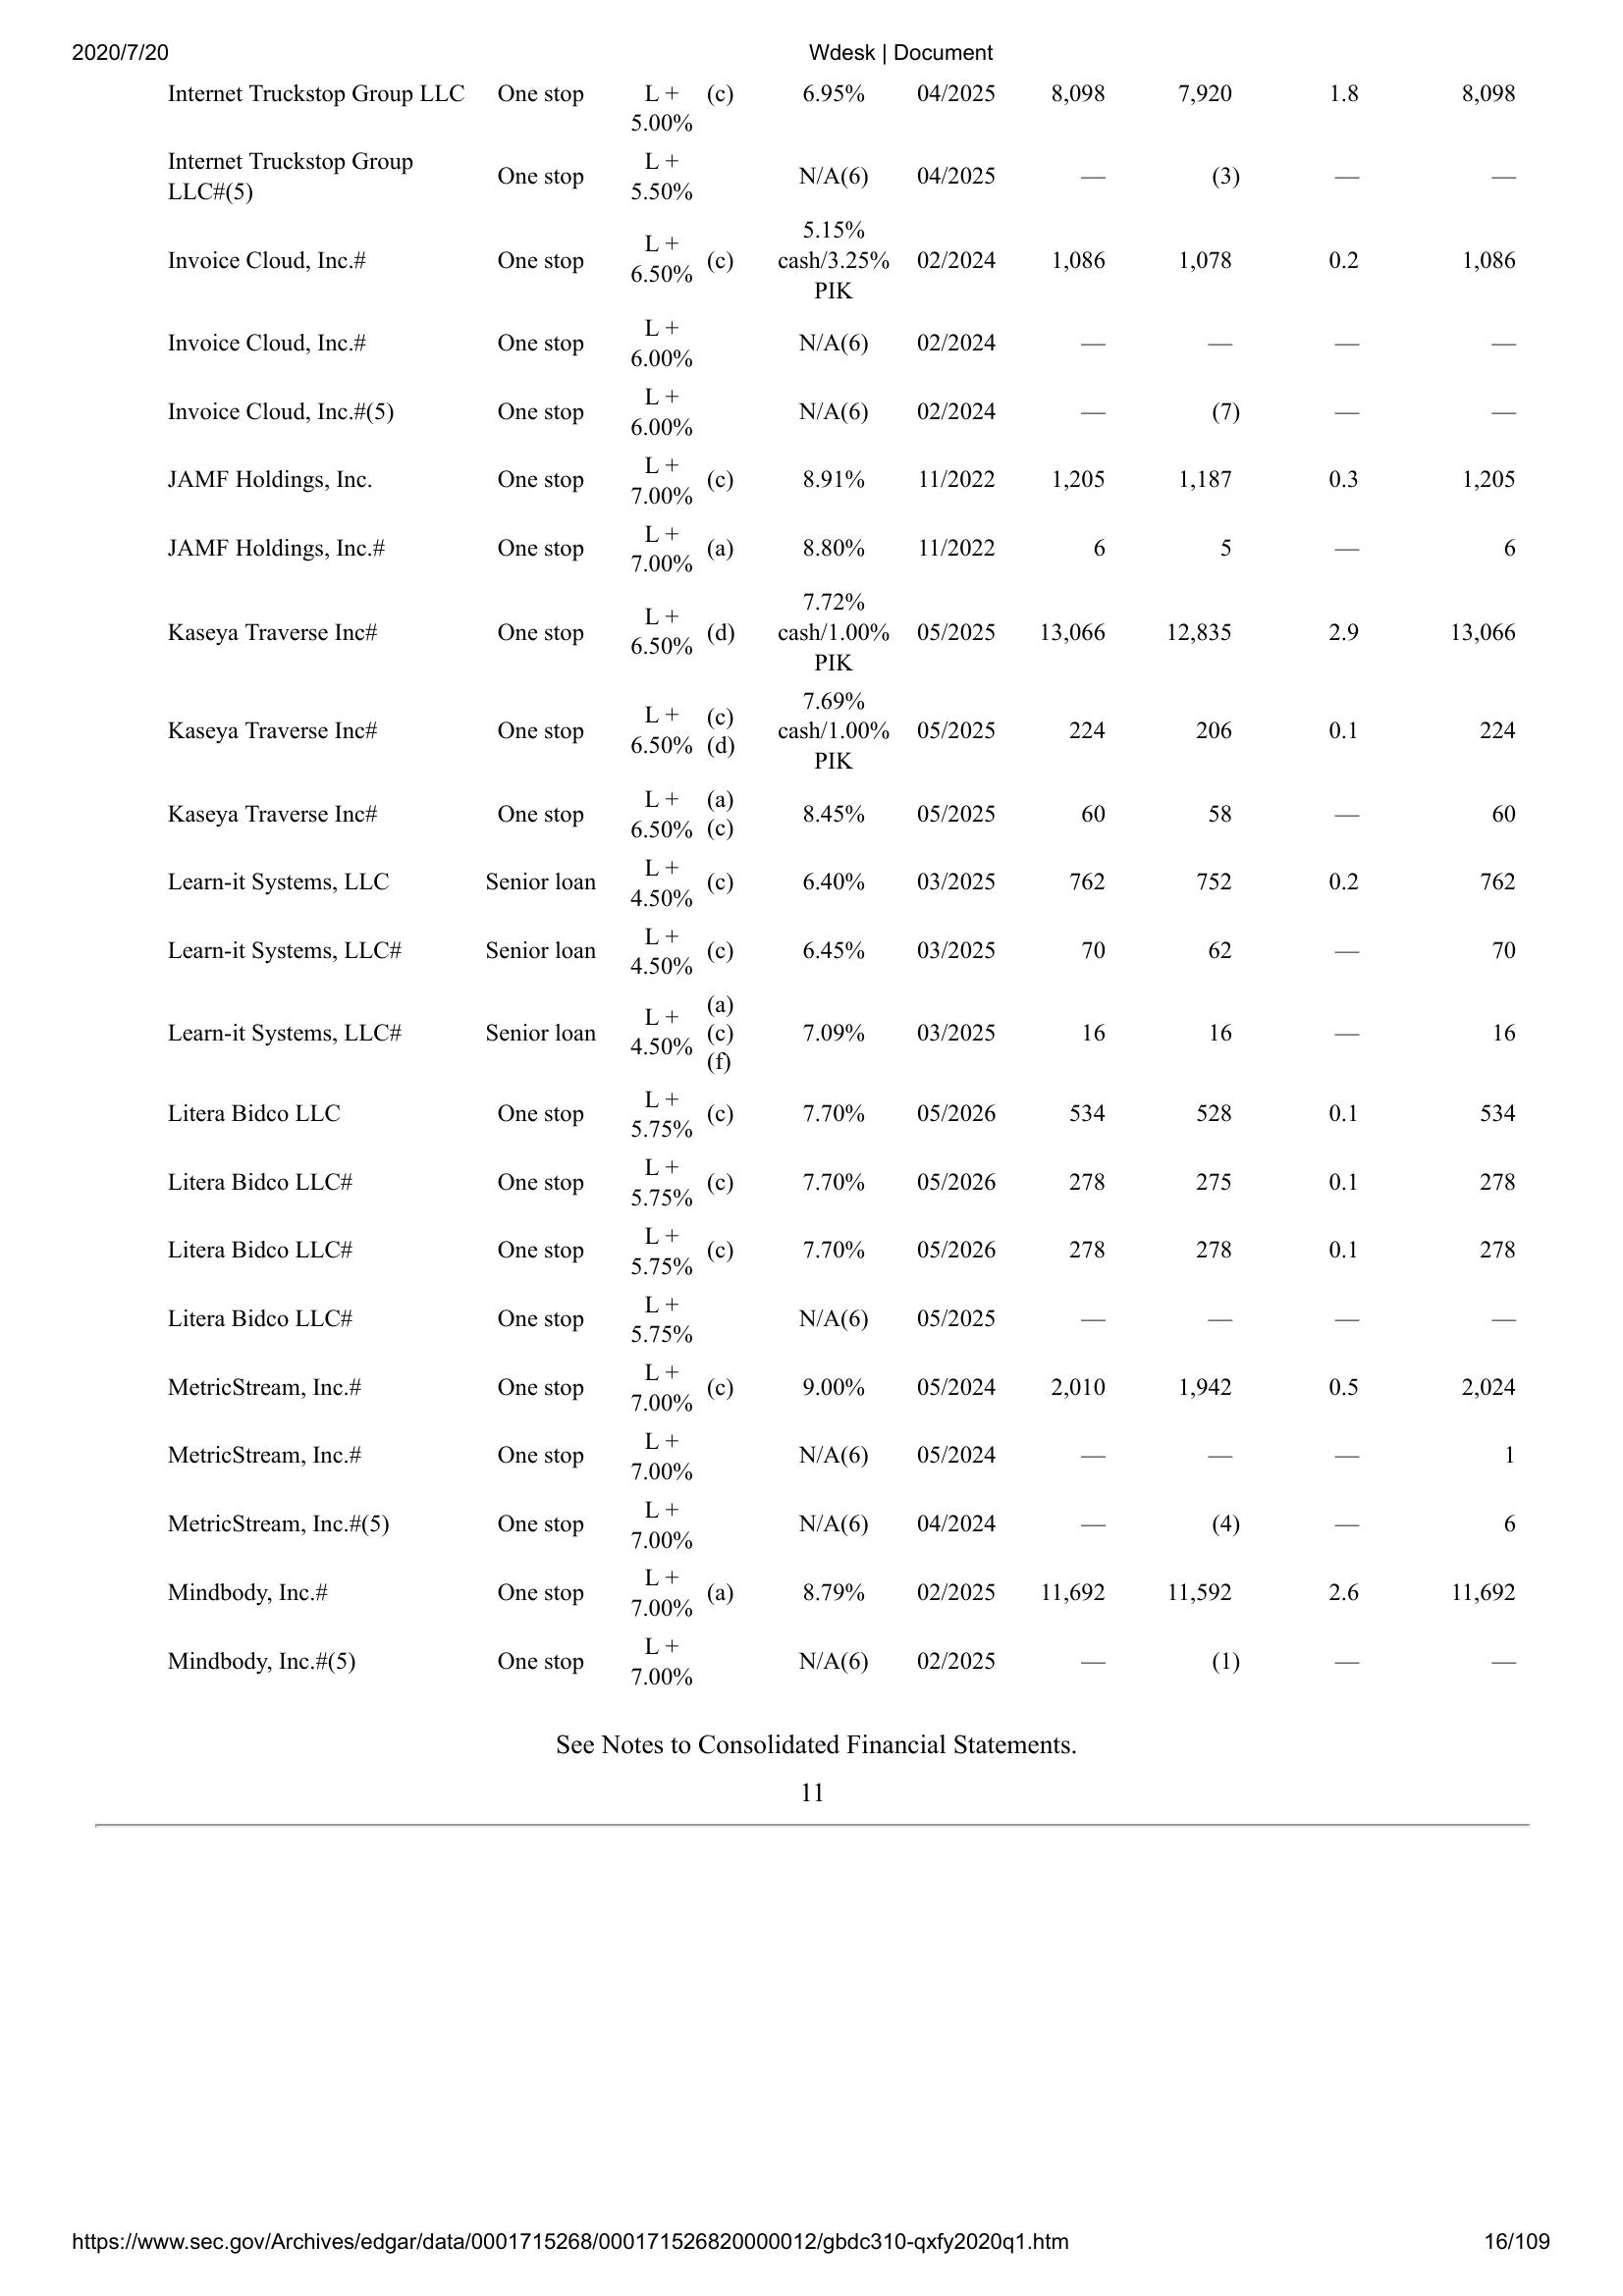table: (156, 37, 1542, 1687)
